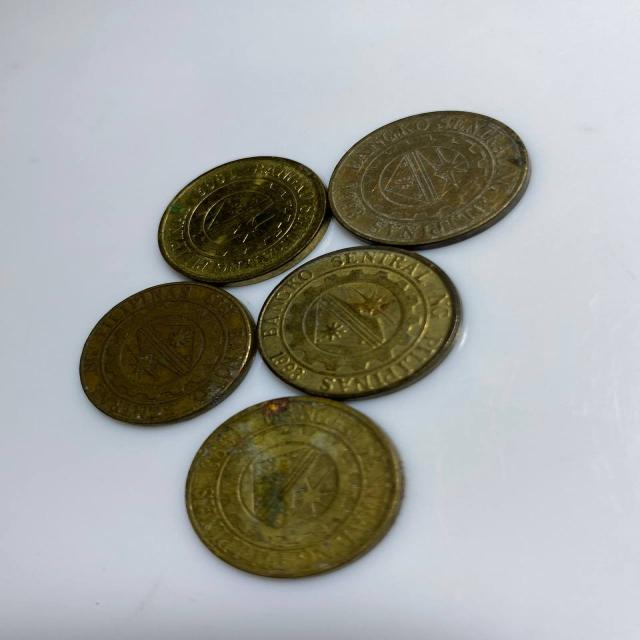25Cent_Old_Back: (192, 401, 400, 577), (261, 249, 459, 397), (332, 109, 527, 239), (82, 286, 250, 426), (160, 151, 319, 278)
